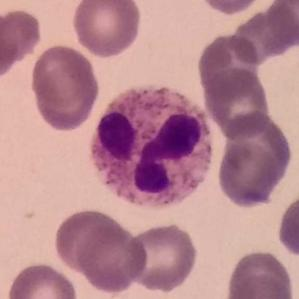Neutrophil: (83, 76, 220, 221)
RBC: (215, 110, 294, 208), (28, 41, 102, 132), (73, 216, 149, 294), (51, 207, 129, 276), (126, 221, 200, 293), (202, 66, 271, 140), (195, 30, 262, 98), (230, 4, 299, 66), (70, 0, 143, 58), (224, 248, 296, 298), (0, 5, 43, 77), (5, 260, 80, 299), (223, 275, 296, 299), (275, 188, 299, 260), (0, 6, 20, 86), (267, 0, 299, 48), (196, 0, 265, 16)
